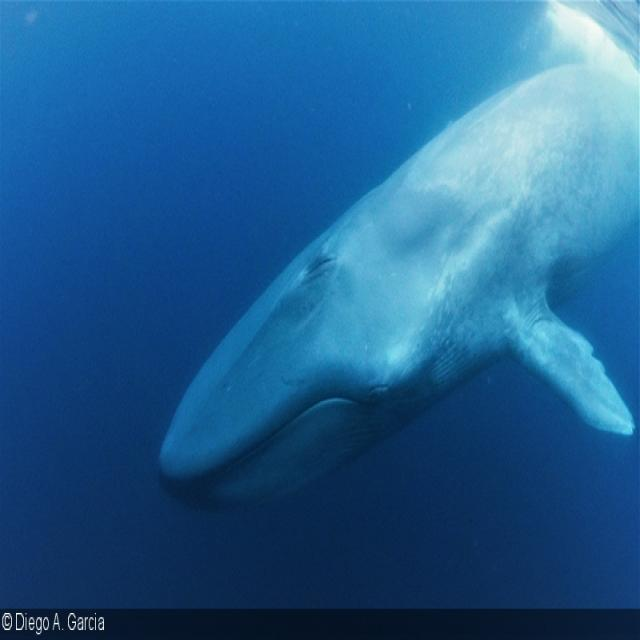blue_whale: (145, 29, 640, 573)
